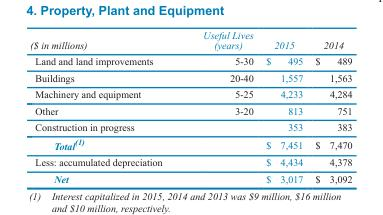table: (29, 29, 351, 183)
table column: (29, 29, 181, 183), (181, 29, 259, 183), (259, 29, 308, 183), (308, 29, 351, 183)
table column header: (29, 29, 351, 52)
table row: (29, 29, 351, 52), (29, 134, 351, 153), (29, 52, 351, 69), (29, 101, 351, 118), (29, 153, 351, 170), (29, 69, 351, 85), (29, 85, 351, 101), (29, 118, 351, 134), (29, 170, 351, 183)
